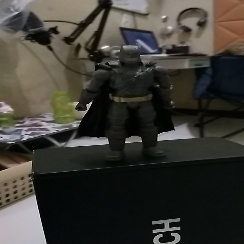batman: (74, 43, 181, 161)
